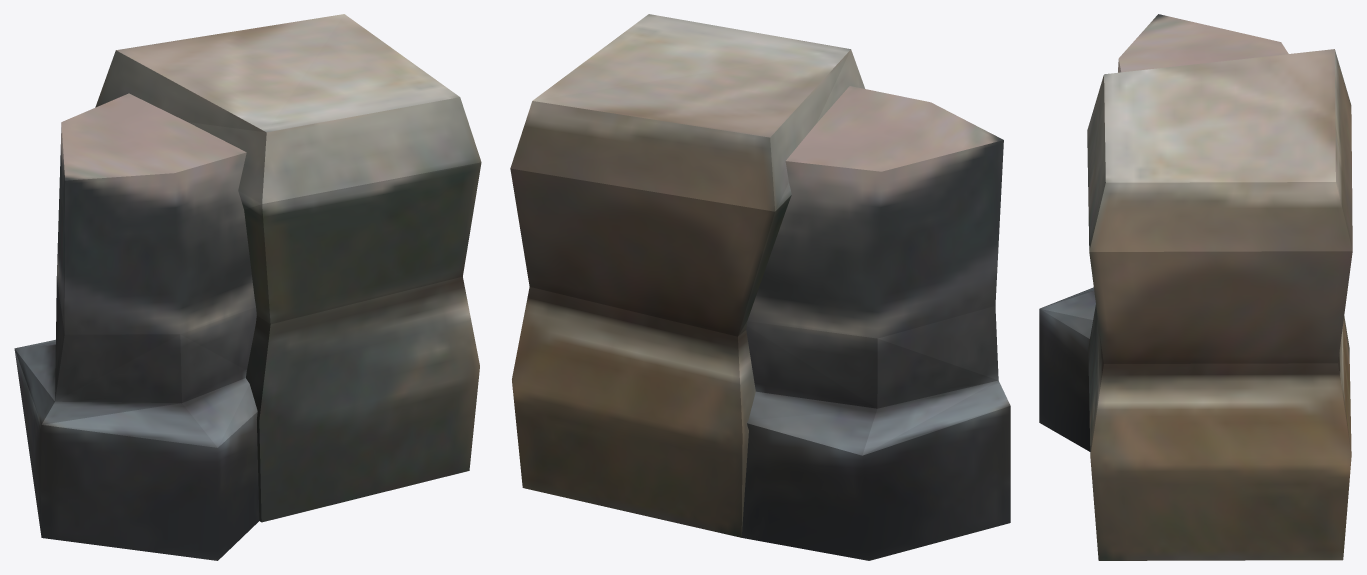
File: shitou02.FBX
The picture shows the model from 3 angles, left to right: view 1: azimuth 30°, elevation 25°; view 2: azimuth 150°, elevation 25°; view 3: azimuth 270°, elevation 25°; orthographic projection. The views are drawn at different scales.
Parts seen in each view (by area): view 1: Box48; view 2: Box48; view 3: Box48.
Boxes of the visible parts, box(x1,y1,x2,y2) form: Box48: box(14, 14, 481, 560); Box48: box(510, 14, 1010, 560); Box48: box(1039, 14, 1352, 560).
Bounding box in the file's own units: 4.35 × 4.11 × 2.95.
